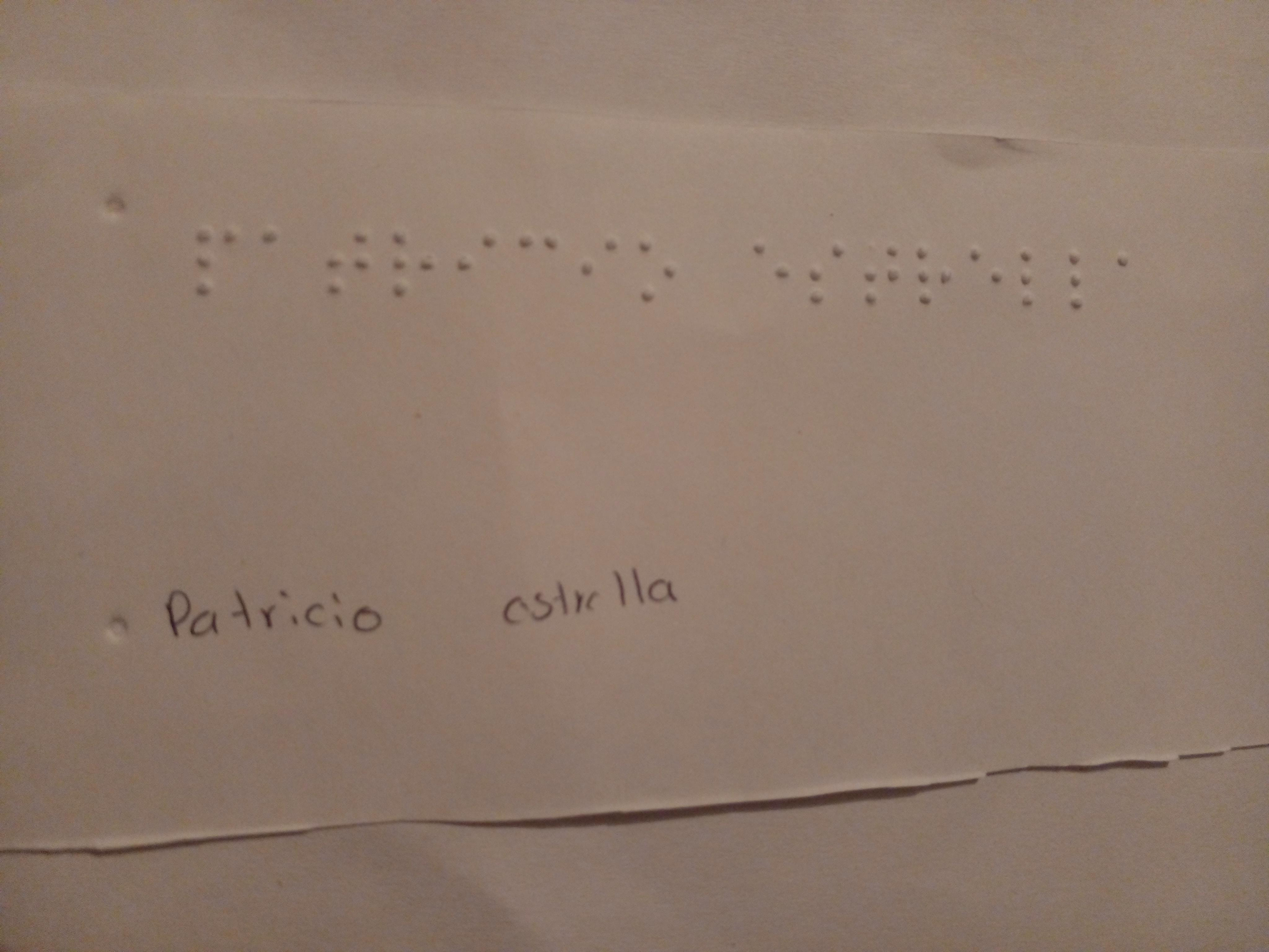a: (252, 211, 294, 270), (1098, 243, 1146, 279)
c: (514, 223, 562, 284)
e: (742, 228, 796, 293), (965, 229, 1005, 313)
i: (445, 220, 508, 304), (572, 225, 624, 298)
l: (1060, 243, 1097, 321), (1015, 240, 1043, 321)
o: (630, 231, 680, 315)
p: (195, 206, 248, 308)
r: (381, 226, 441, 311), (912, 240, 960, 316)
s: (807, 232, 846, 316)
t: (318, 200, 376, 308), (861, 229, 903, 315)
